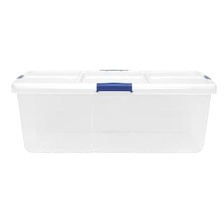plastic_box: (7, 62, 222, 159)
